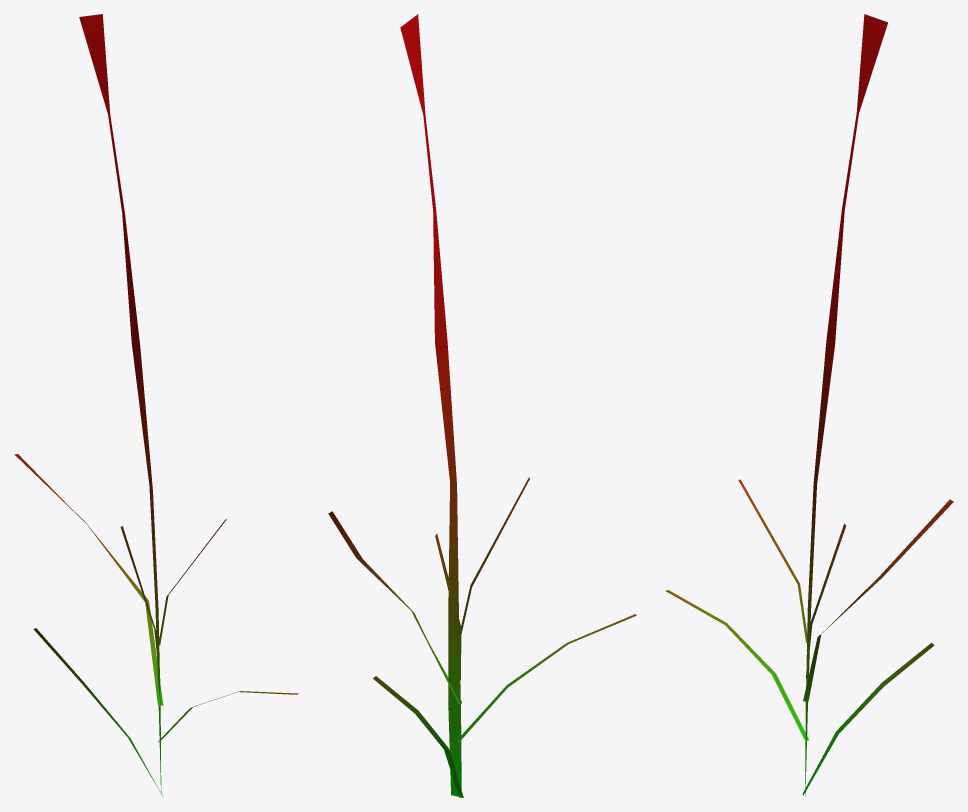
The model's file is Tundra Grass_LOD5_Var35_wk2oaeyqx.fbx.
3 views of the same model, side by side, from view 1: azimuth 90°, elevation 25°; view 2: azimuth 150°, elevation 25°; view 3: azimuth 270°, elevation 25° (orthographic). The views are drawn at different scales.
Visible parts, largest first — view 1: _carp_Var35_LOD5; view 2: _carp_Var35_LOD5; view 3: _carp_Var35_LOD5.
Boxes of the visible parts, left/top/right/bottom form: _carp_Var35_LOD5: left=14, top=14, right=298, bottom=796; _carp_Var35_LOD5: left=328, top=14, right=636, bottom=797; _carp_Var35_LOD5: left=665, top=14, right=953, bottom=795.
Size of the model in its own units: 11.05 by 49.63 by 16.51.
